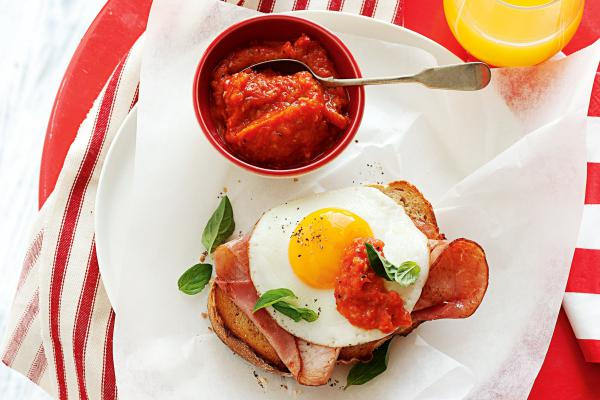fried egg: (249, 197, 430, 348)
